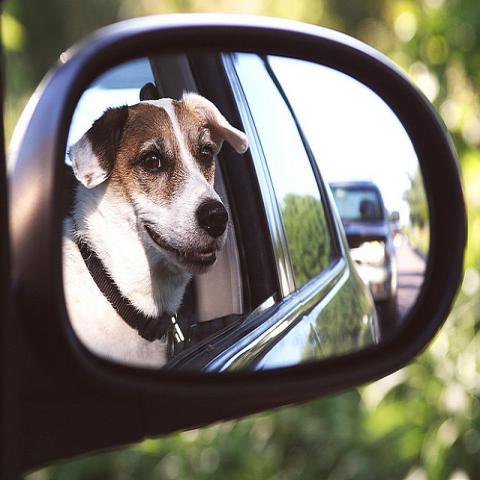car: (138, 43, 386, 379), (332, 178, 400, 312)
